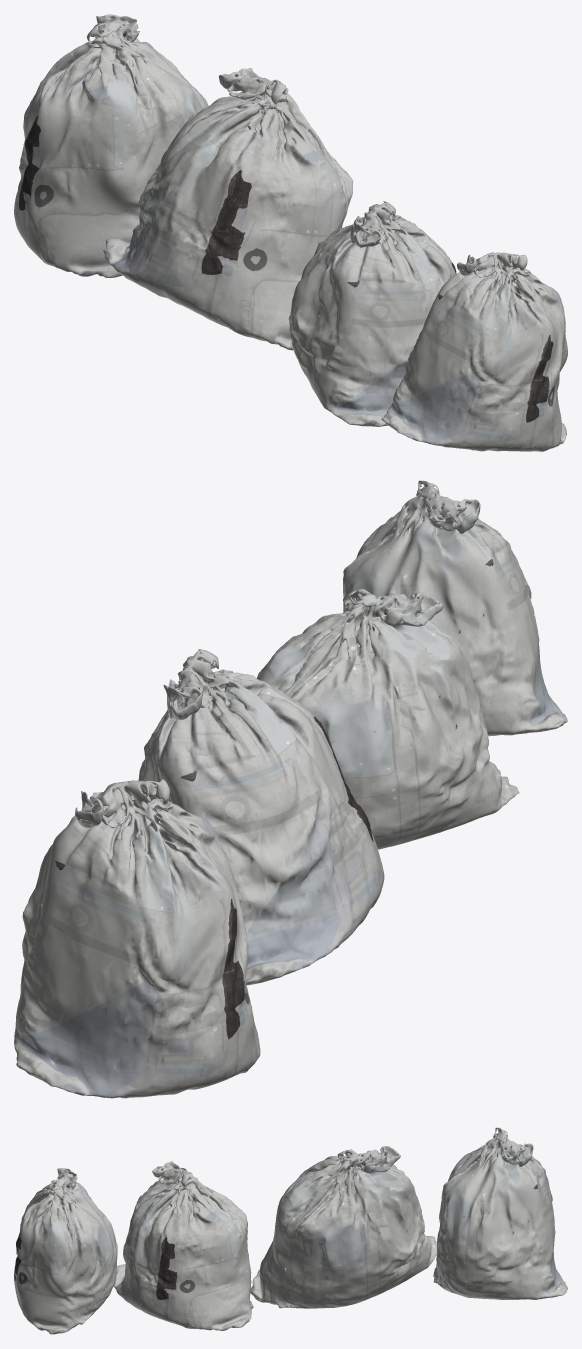
Rendered from uploads_files_5445357_trashbag.fbx.
3 views of the same model, one above another, from view 1: azimuth 30°, elevation 25°; view 2: azimuth 150°, elevation 25°; view 3: azimuth 270°, elevation 25° (orthographic). The views are drawn at different scales.
Parts seen in each view (by area): view 1: Mesh_0, Mesh_0.003, Mesh_0.001, Mesh_0.002; view 2: Mesh_0.003, Mesh_0, Mesh_0.002, Mesh_0.001; view 3: Mesh_0, Mesh_0.002, Mesh_0.003, Mesh_0.001.
Boxes of the visible parts, bbox=[...] form: Mesh_0: bbox=[103, 68, 353, 350]; Mesh_0.003: bbox=[14, 14, 208, 277]; Mesh_0.001: bbox=[381, 252, 567, 451]; Mesh_0.002: bbox=[288, 201, 456, 426]; Mesh_0.003: bbox=[14, 779, 260, 1098]; Mesh_0: bbox=[138, 649, 384, 985]; Mesh_0.002: bbox=[256, 588, 519, 849]; Mesh_0.001: bbox=[343, 480, 567, 736]; Mesh_0: bbox=[250, 1146, 437, 1308]; Mesh_0.002: bbox=[113, 1161, 253, 1330]; Mesh_0.003: bbox=[433, 1127, 567, 1299]; Mesh_0.001: bbox=[14, 1168, 117, 1334].
Size of the model in its own units: 217 by 203 by 643.
